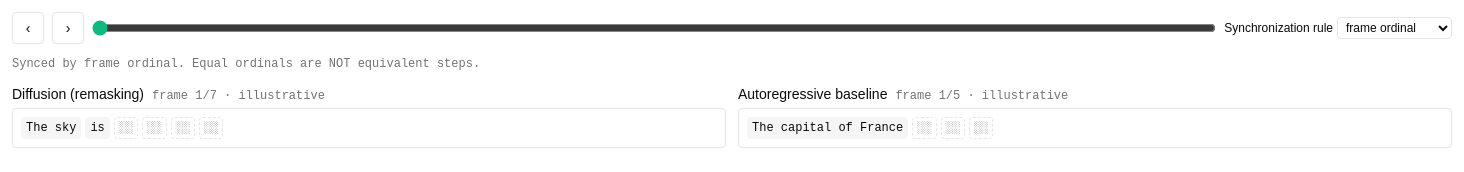
DiffusionComparison › clamps the shorter trace at its final frame (frame-ordinal)
Set the slider named "Comparison position" to "6" at (1208,28), box [92, 20, 1216, 36]
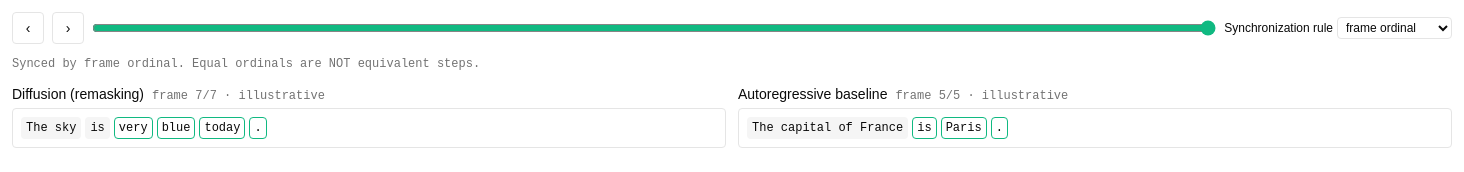
Expected: the text "frame 7/7 · illustrative" is shown, [152, 88, 325, 104]
Expected: the text "frame 5/5 · illustrative" is shown, [895, 88, 1068, 104]
